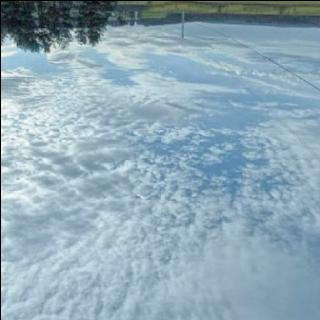Cirrus: (0, 23, 320, 320)
